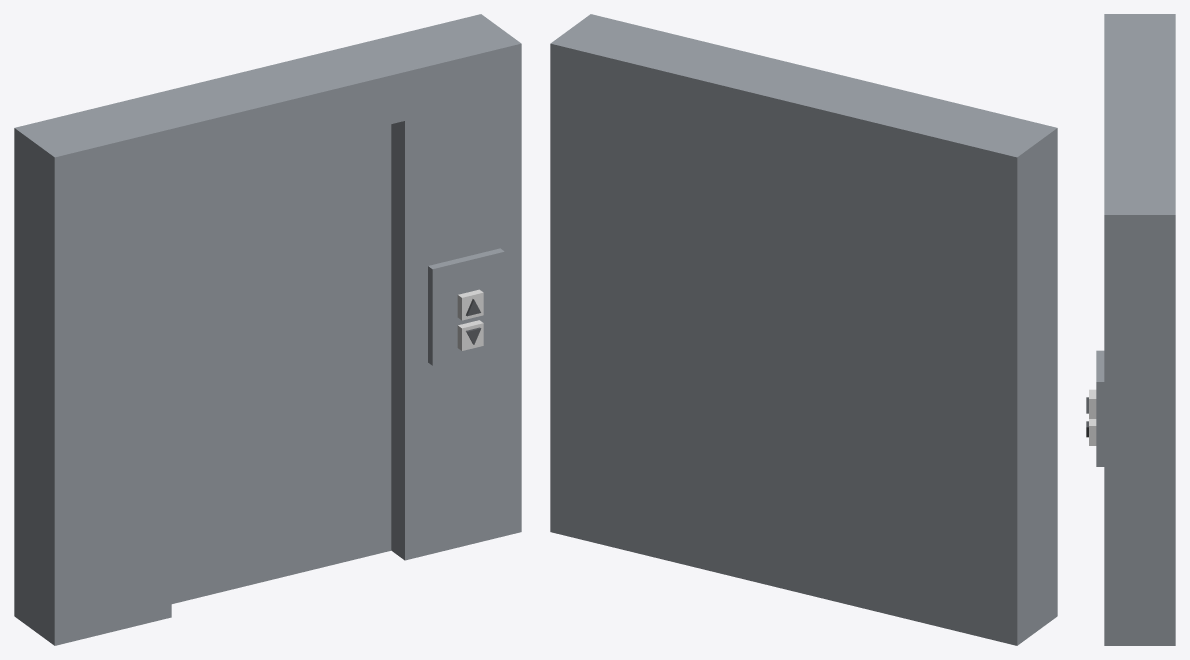
File: elevator.glb
3 renders of one model, left to right at view 1: azimuth 30°, elevation 25°; view 2: azimuth 150°, elevation 25°; view 3: azimuth 270°, elevation 25°, orthographic. The views are drawn at different scales.
Visible parts, largest first — view 1: elevator door, doorL, doorR; view 2: elevator door, doorL, doorR; view 3: elevator door, doorL, doorR, buttonUp, buttonDown.
Part boxes in pixels (<box>): elevator door: <box>14,14,521,645</box>; doorL: <box>248,43,391,578</box>; doorR: <box>131,71,274,603</box>; elevator door: <box>550,14,1057,645</box>; doorL: <box>667,52,810,588</box>; doorR: <box>783,81,926,617</box>; elevator door: <box>1096,14,1175,645</box>; doorL: <box>1128,114,1175,164</box>; doorR: <box>1128,66,1175,114</box>; buttonUp: <box>1089,389,1096,418</box>; buttonDown: <box>1089,419,1096,445</box>.
Bounding box in the file's own units: 2 × 2 × 0.3748.
2 materials, 2 textured.
